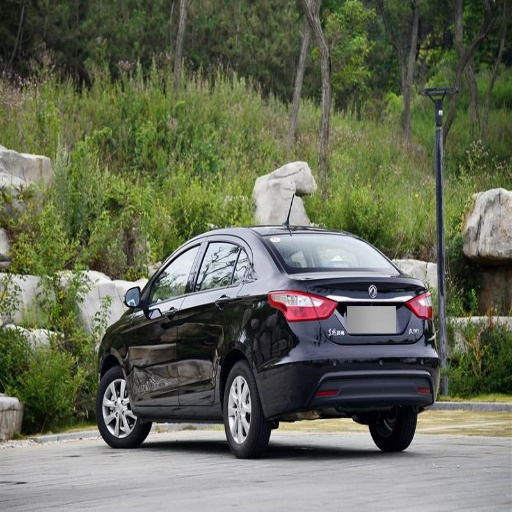back_bumper: (259, 322, 441, 416)
back_glass: (267, 236, 395, 274)
back_left_door: (181, 235, 245, 405)
tailgate: (306, 272, 420, 343)
